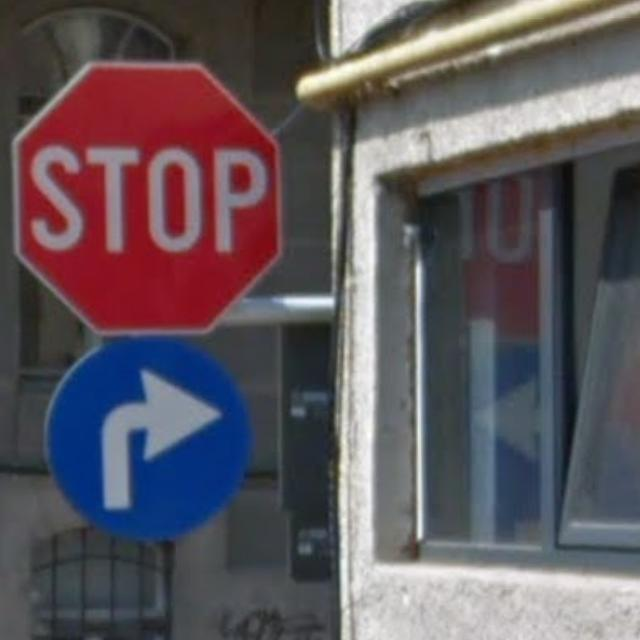prio_stop: (14, 64, 283, 340)
